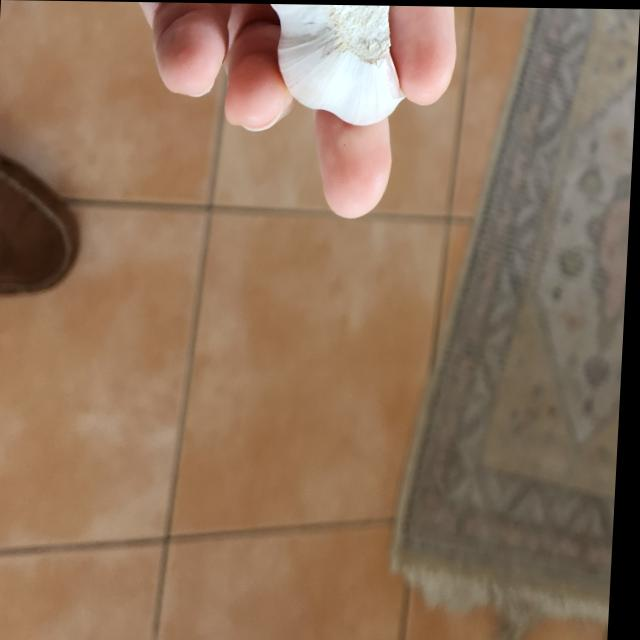garlic: (252, 3, 433, 127)
